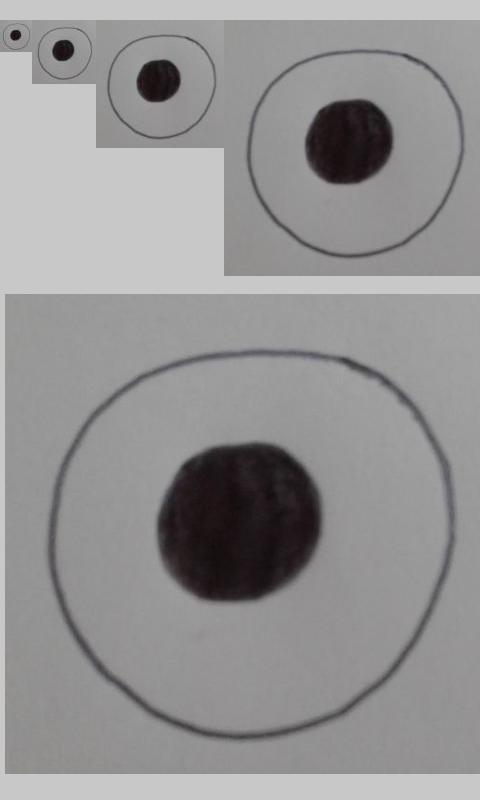radio_button: (42, 345, 461, 744), (243, 47, 467, 260), (105, 32, 218, 140), (35, 25, 93, 81), (2, 22, 31, 51)
